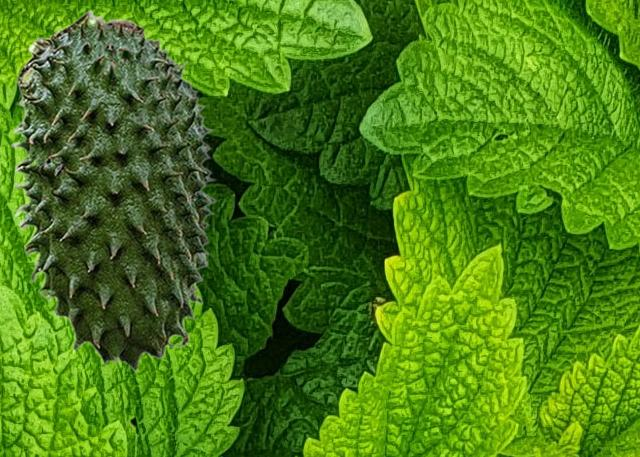guyabano: (10, 8, 217, 371)
